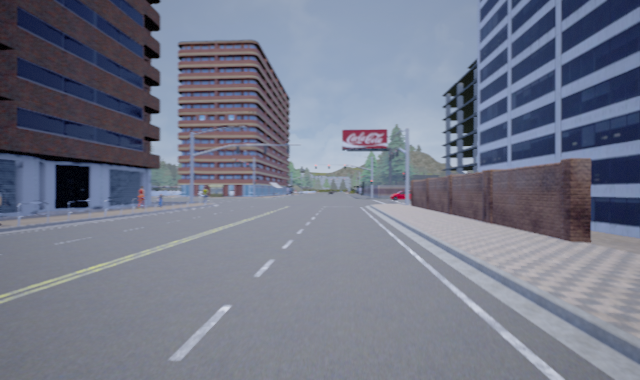pedestrian: (134, 184, 148, 209), (154, 191, 166, 207)
vehicle: (390, 189, 415, 200)
